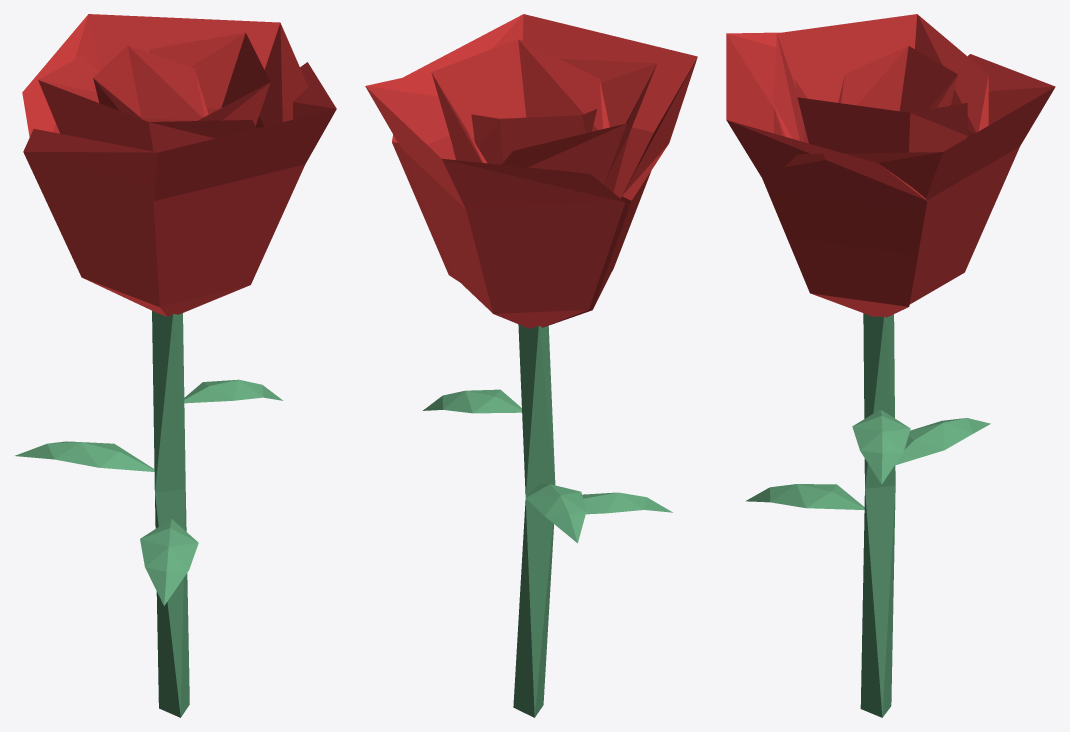
File: Prop_Flower_Rose.glb
The picture shows the model from 3 angles, left to right: view 1: azimuth 30°, elevation 25°; view 2: azimuth 150°, elevation 25°; view 3: azimuth 270°, elevation 25°; orthographic projection. The views are drawn at different scales.
Parts seen in each view (by area): view 1: object8, object5, object1, object2, object9, object6, object3, object4, object7; view 2: object5, object8, object6, object1, object2, object9, object4, object7, object3; view 3: object8, object5, object2, object1, object6, object9, object7, object3, object4.
Part boxes in pixels (left/top/right/bottom): object8: left=23, top=62, right=336, bottom=316; object5: left=22, top=14, right=308, bottom=136; object1: left=152, top=311, right=189, bottom=717; object2: left=38, top=55, right=256, bottom=152; object9: left=93, top=45, right=208, bottom=121; object6: left=150, top=32, right=270, bottom=125; object3: left=140, top=519, right=198, bottom=605; object4: left=15, top=441, right=154, bottom=471; object7: left=184, top=379, right=283, bottom=403; object5: left=365, top=70, right=625, bottom=328; object8: left=392, top=14, right=697, bottom=327; object6: left=431, top=39, right=609, bottom=163; object1: left=513, top=324, right=555, bottom=717; object2: left=502, top=58, right=657, bottom=192; object9: left=471, top=109, right=596, bottom=164; object4: left=526, top=483, right=586, bottom=543; object7: left=423, top=389, right=521, bottom=413; object3: left=582, top=492, right=672, bottom=514; object8: left=726, top=32, right=927, bottom=317; object5: left=784, top=54, right=1055, bottom=304; object2: left=773, top=14, right=988, bottom=143; object1: left=860, top=313, right=895, bottom=717; object6: left=794, top=79, right=967, bottom=153; object9: left=838, top=46, right=957, bottom=112; object7: left=852, top=410, right=910, bottom=484; object3: left=745, top=484, right=864, bottom=509; object4: left=895, top=418, right=990, bottom=465.
Size of the model in its own units: 0.2227 by 0.4917 by 0.2295.
